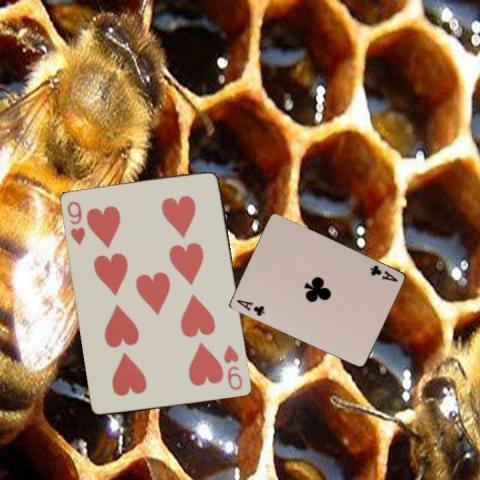9h: (221, 342, 244, 392), (64, 199, 86, 247)
Ac: (366, 262, 398, 283), (234, 297, 266, 317)
